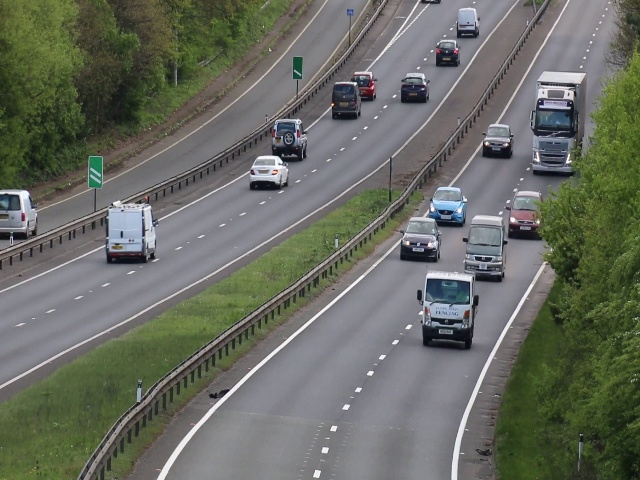car: (418, 272, 479, 351), (106, 202, 158, 263), (531, 108, 574, 174), (466, 217, 506, 281), (1, 189, 41, 239), (401, 214, 441, 263), (506, 191, 543, 237), (271, 118, 309, 160), (249, 154, 290, 192), (430, 186, 466, 226), (481, 120, 513, 157), (332, 81, 361, 121), (400, 70, 430, 102), (354, 69, 378, 101), (435, 39, 460, 68), (457, 7, 478, 40)
